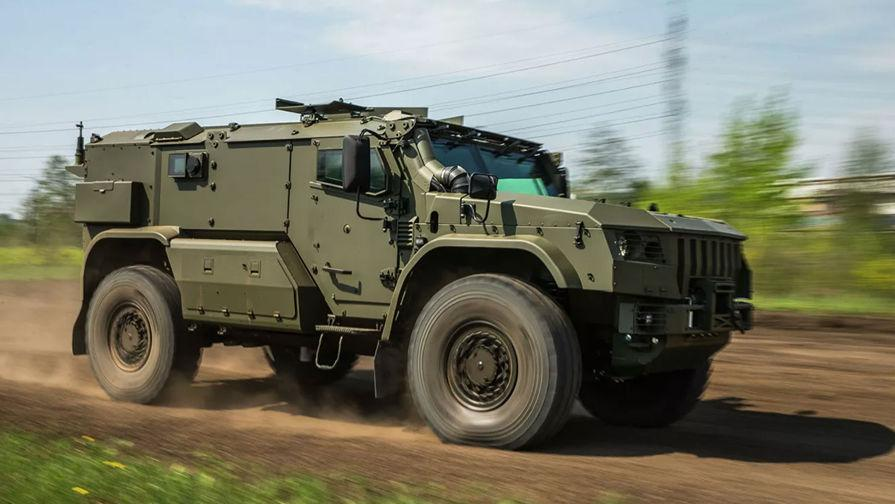armored_car: (66, 76, 770, 471)
